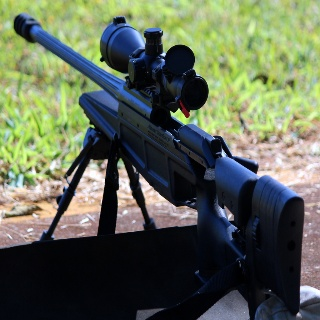rifle: (13, 12, 309, 317)
